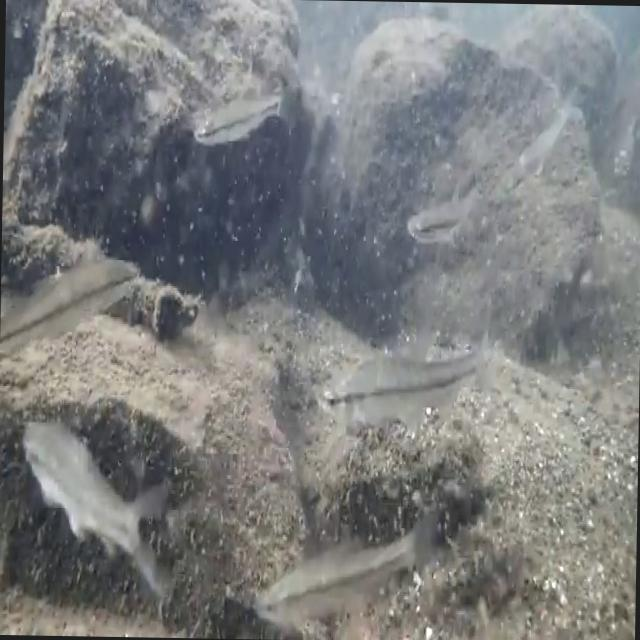Cakil Baligi: (22, 407, 168, 595), (254, 500, 435, 633), (317, 330, 485, 438), (508, 84, 574, 184), (196, 78, 282, 152), (403, 184, 474, 253)
